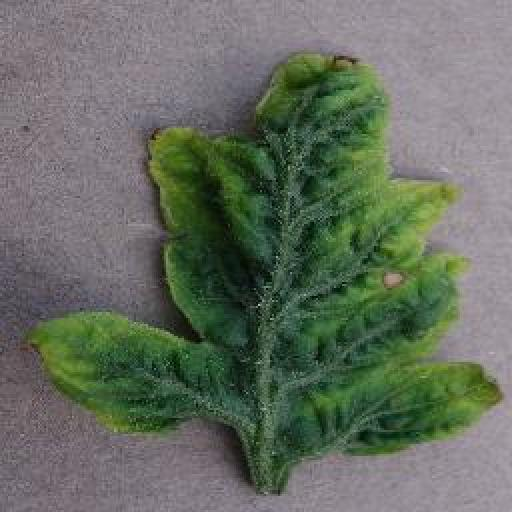Yellow Leaf Curl Virus: (31, 52, 503, 468)
